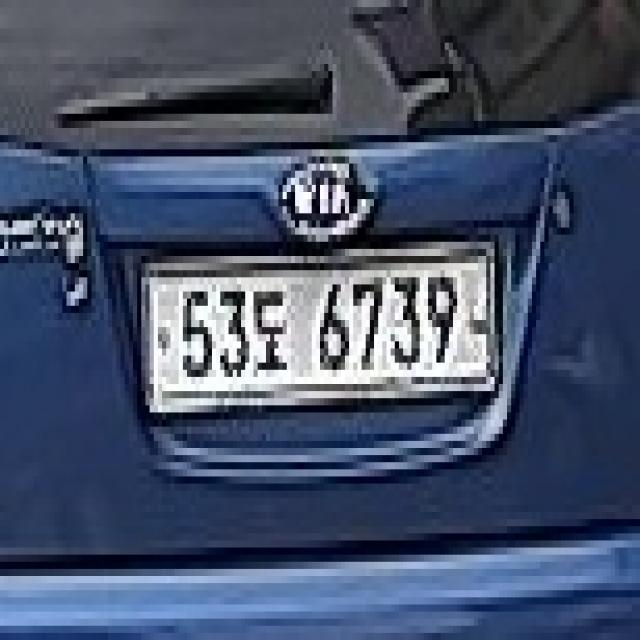3: (216, 270, 254, 384), (386, 270, 424, 377)
5: (175, 270, 216, 377)
6: (316, 277, 353, 377)
7: (349, 270, 382, 370)
9: (420, 263, 465, 384)
do: (249, 277, 295, 384)
license_plate: (141, 235, 507, 420)
